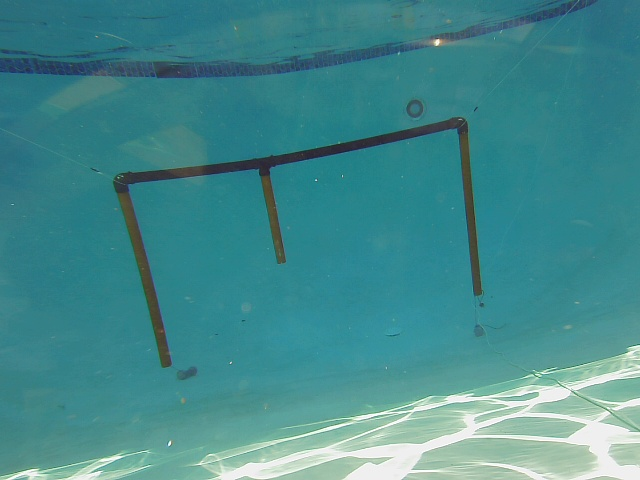Gate: (110, 183, 174, 371), (455, 125, 487, 299), (259, 167, 286, 268)
